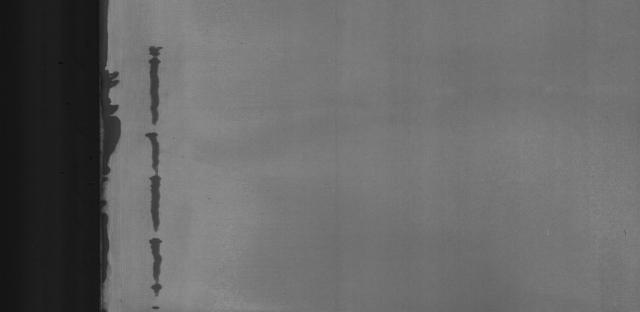oil_spot: (138, 41, 191, 296), (100, 10, 124, 297)
